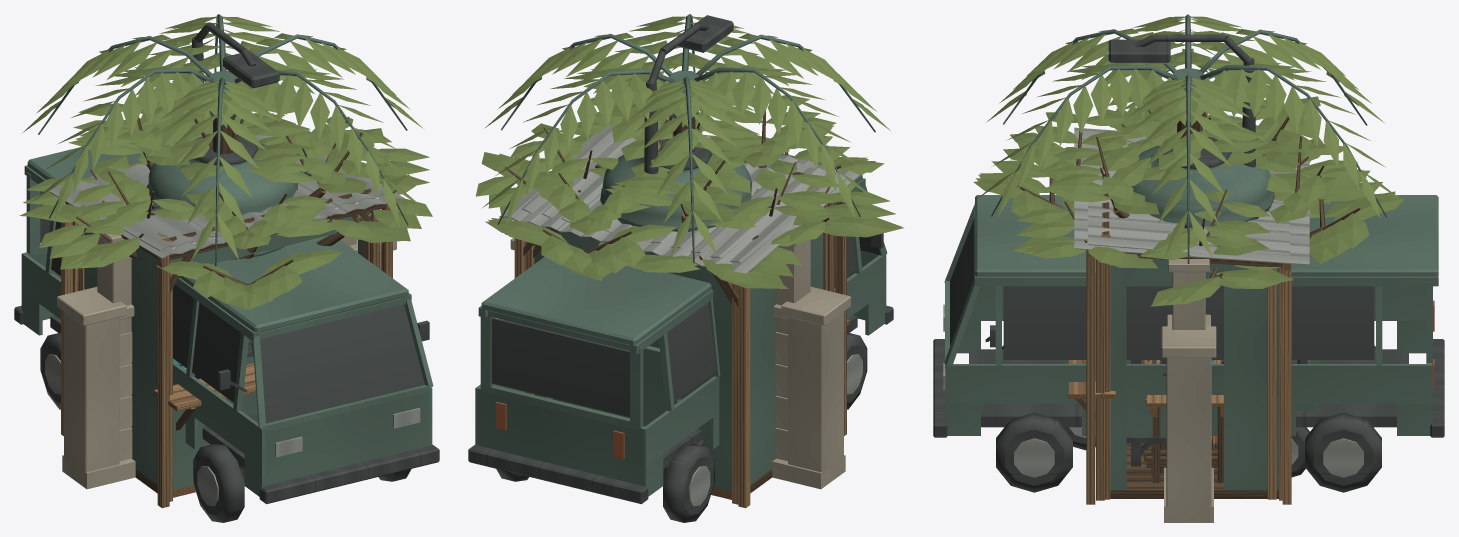
Rendered from niger-delta.glb.
3 renders of one model, left to right at view 1: azimuth 30°, elevation 25°; view 2: azimuth 150°, elevation 25°; view 3: azimuth 270°, elevation 25°, orthographic.
Parts seen in each view (by area): view 1: minibus, palm, broadleaf-tree, acacia, kiosk, wall, canopy, water-tank, market-stall, gate, street-lamp; view 2: minibus, palm, broadleaf-tree, kiosk, acacia, wall, market-stall, canopy, water-tank, street-lamp, gate, three-wheeler; view 3: minibus, palm, kiosk, broadleaf-tree, acacia, market-stall, wall, water-tank, canopy, street-lamp, gate, three-wheeler.
Boxes of the visible parts, x1,y1,x2,y2 form: minibus: (14,147,439,522); palm: (21,14,424,266); broadleaf-tree: (68,81,391,258); acacia: (19,108,432,309); kiosk: (49,135,405,501); wall: (57,239,396,489); canopy: (61,197,392,508); water-tank: (146,134,297,379); market-stall: (70,156,384,370); gate: (93,233,356,482); street-lamp: (190,22,279,115); minibus: (468,153,893,522); palm: (482,14,890,262); broadleaf-tree: (510,71,842,234); kiosk: (499,131,859,504); acacia: (475,109,903,288); wall: (510,238,850,489); market-stall: (521,126,846,290); canopy: (514,186,847,508); water-tank: (600,138,751,231); street-lamp: (644,15,733,174); gate: (772,240,810,482); three-wheeler: (558,335,703,445); minibus: (933,195,1444,492); palm: (976,14,1400,263); kiosk: (1068,127,1309,500); broadleaf-tree: (1010,85,1367,259); acacia: (973,107,1404,306); market-stall: (1088,128,1289,499); wall: (1161,314,1216,522); water-tank: (1131,137,1274,466); canopy: (1086,250,1291,504); street-lamp: (1108,34,1255,167); gate: (1168,259,1209,329); three-wheeler: (1064,360,1318,477).
Bounding box in the file's own units: 3.93 × 3.83 × 4.3.
Materials: 1 (1 with a texture image).
